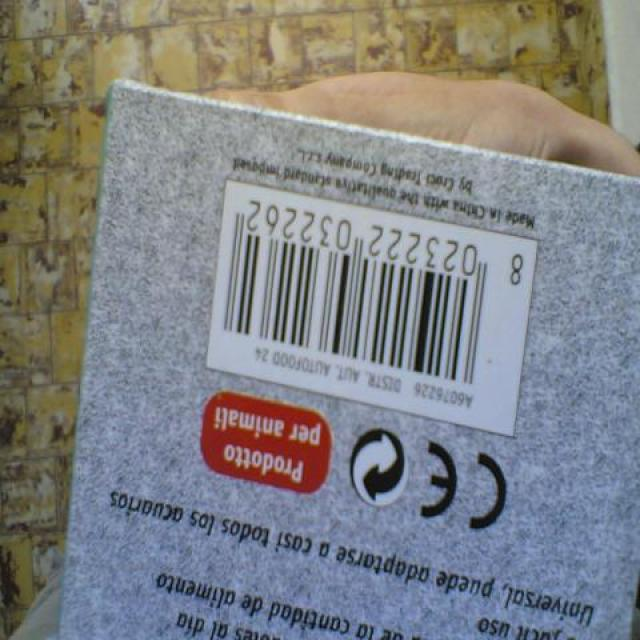Barcode: (205, 178, 539, 438)
